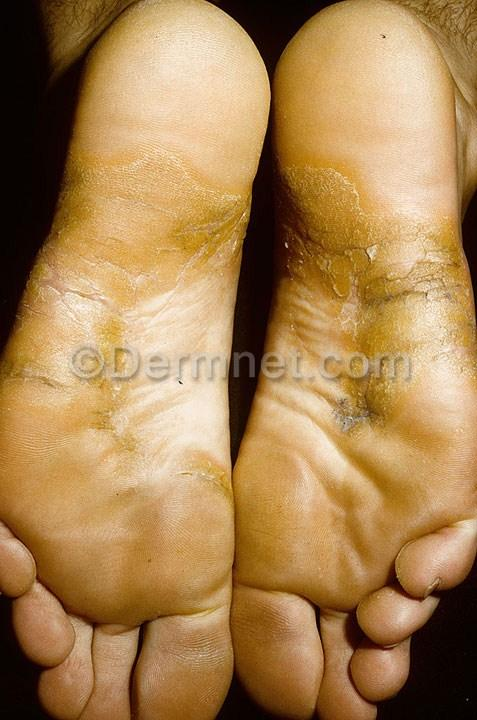Eczema: (299, 143, 458, 378), (130, 148, 272, 324), (119, 303, 238, 501), (0, 312, 115, 479), (311, 366, 409, 515), (29, 171, 125, 309)
